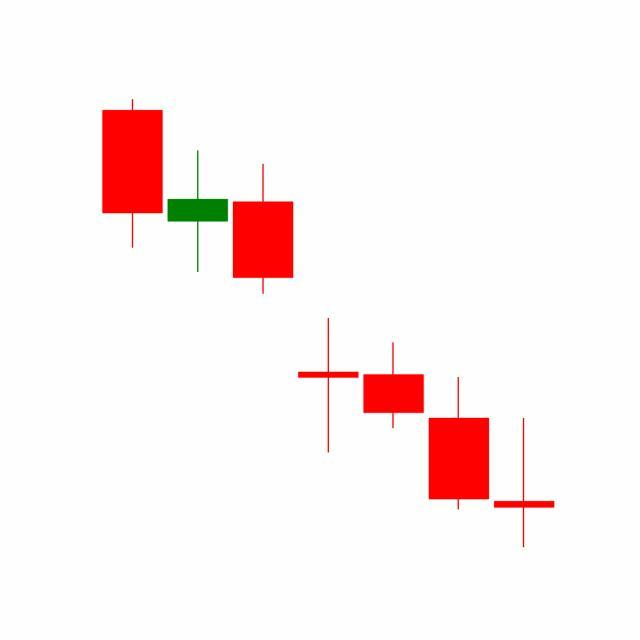Hikkake Pattern: (165, 147, 492, 515)
